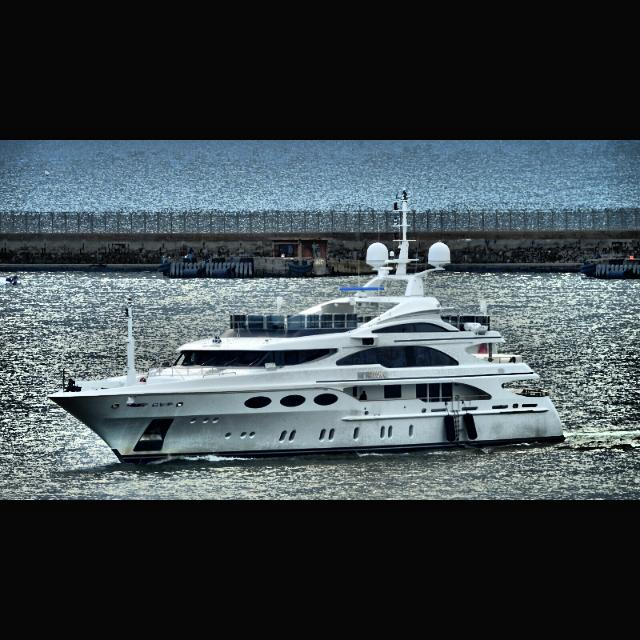yacht: (47, 240, 567, 468)
